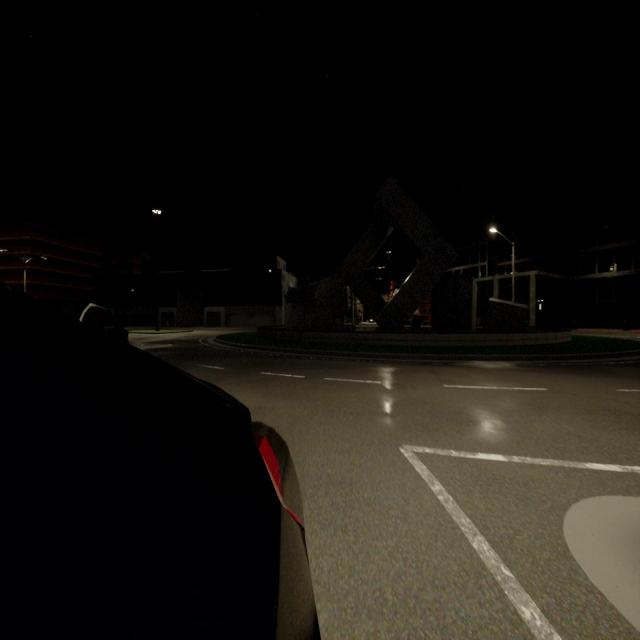Vehicle: (0, 303, 316, 639)
